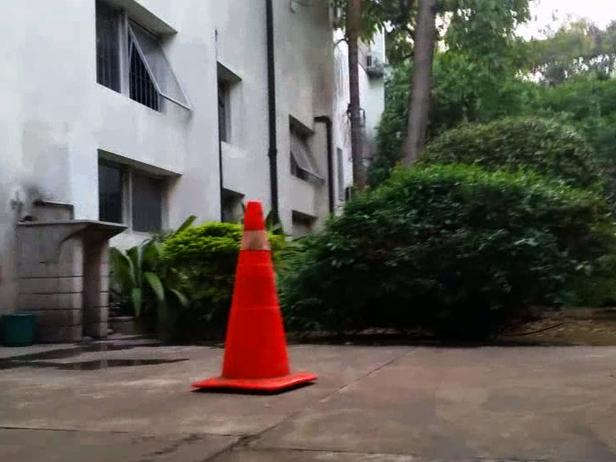0 cone: (190, 200, 315, 389)
